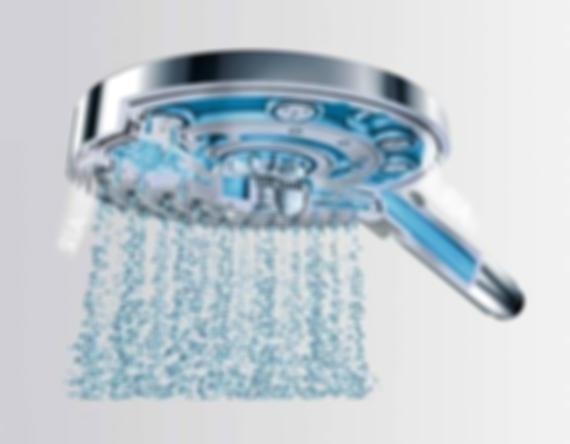Ducha: (60, 45, 541, 406)
